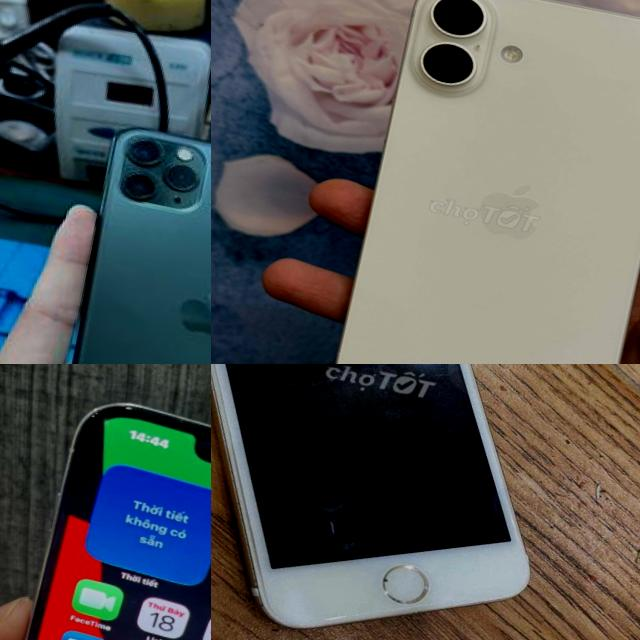scratch: (211, 382, 293, 566), (379, 574, 401, 585)
